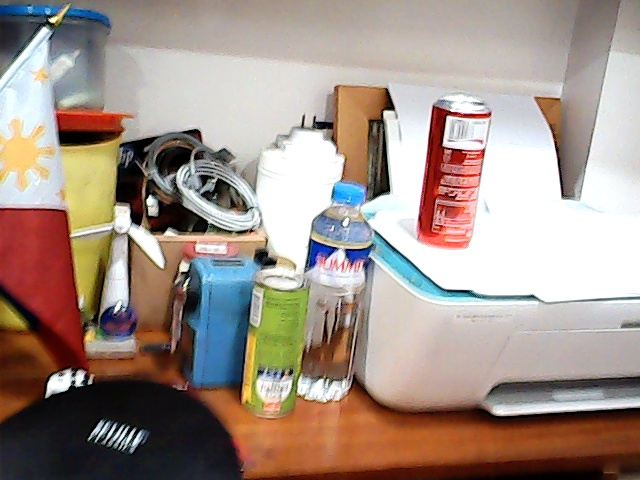Cola: (409, 87, 496, 255)
Pine Juice: (234, 263, 309, 420)
Summit Water: (305, 175, 382, 398)
